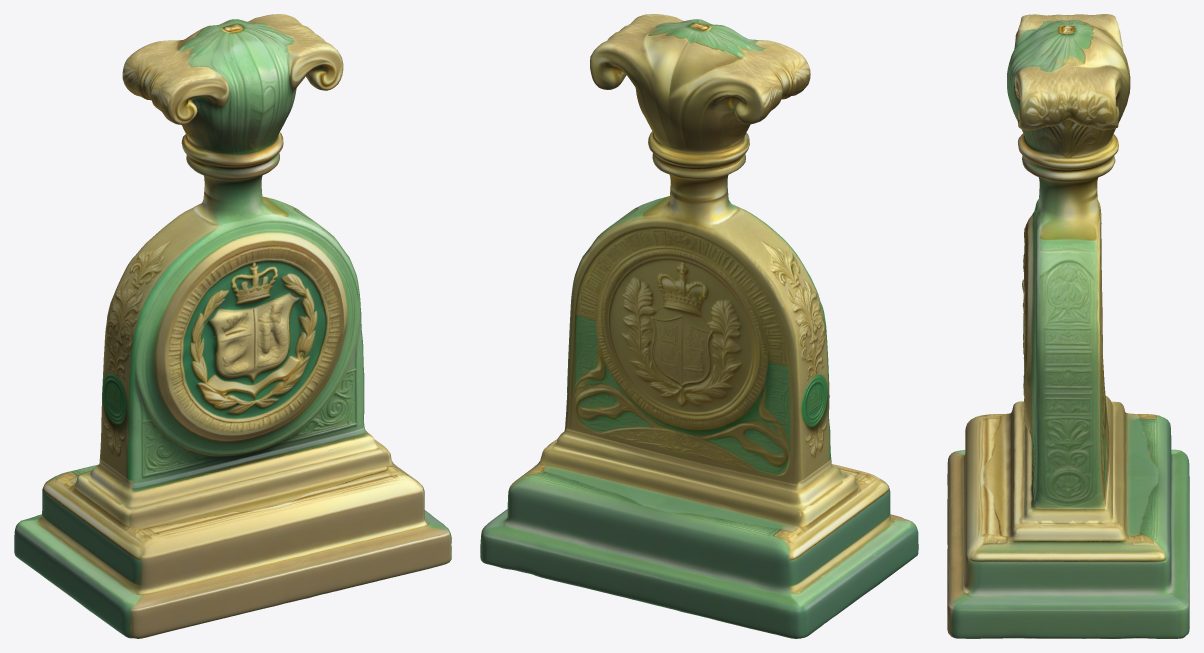
The model's file is royal_seal.glb.
3 views of the same model, side by side, from view 1: azimuth 30°, elevation 25°; view 2: azimuth 150°, elevation 25°; view 3: azimuth 270°, elevation 25° (orthographic).
Bounding box in the file's own units: 1.29 × 2.01 × 0.8299.
Materials: 1 (1 with a texture image).
